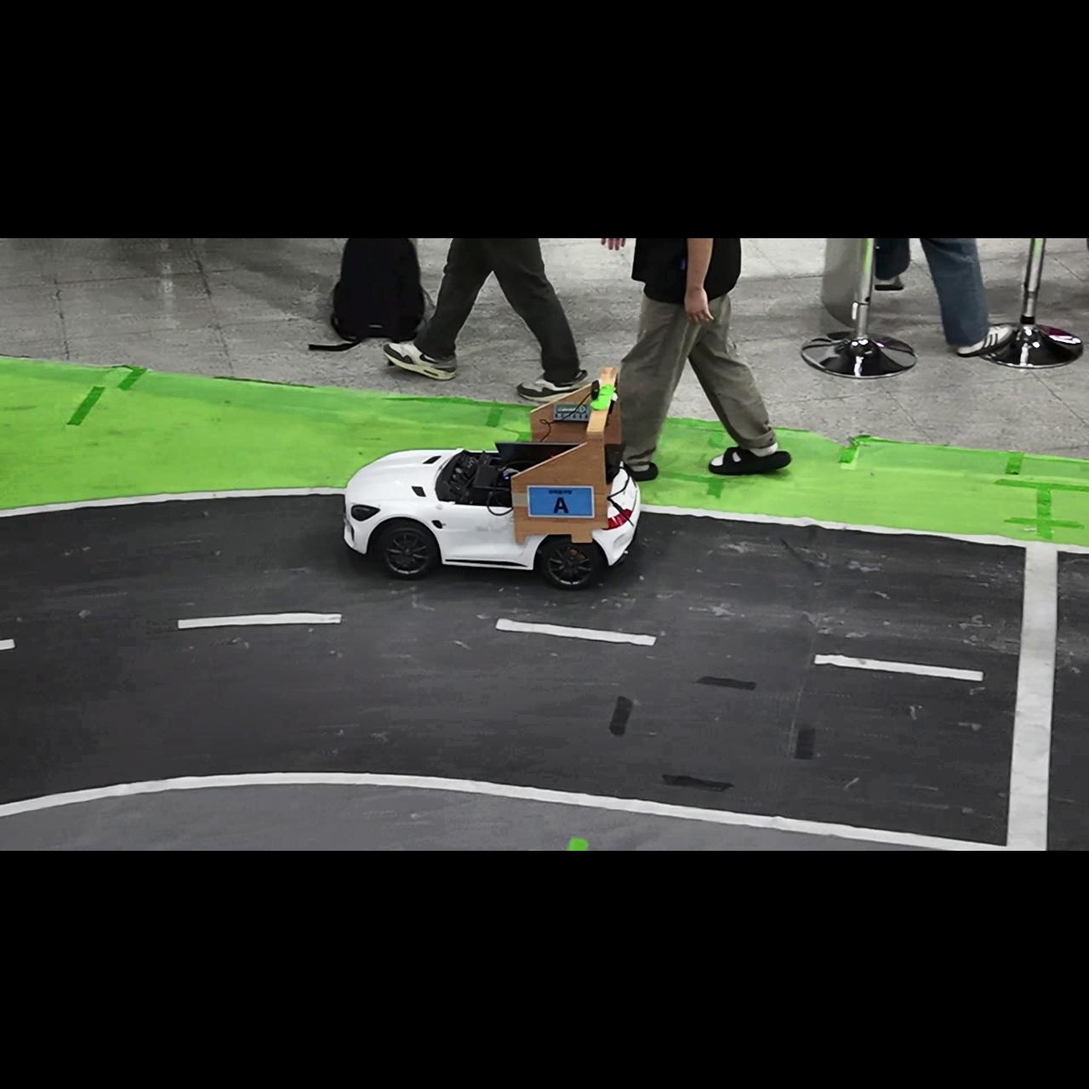broken_line: (814, 654, 983, 681), (495, 618, 657, 646), (177, 612, 342, 629), (0, 639, 15, 650)
